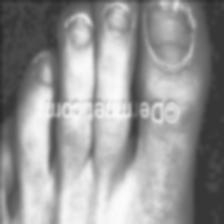Unclassified: (128, 147, 176, 224), (19, 48, 57, 81), (153, 0, 189, 29), (108, 0, 133, 20), (63, 12, 91, 26)
